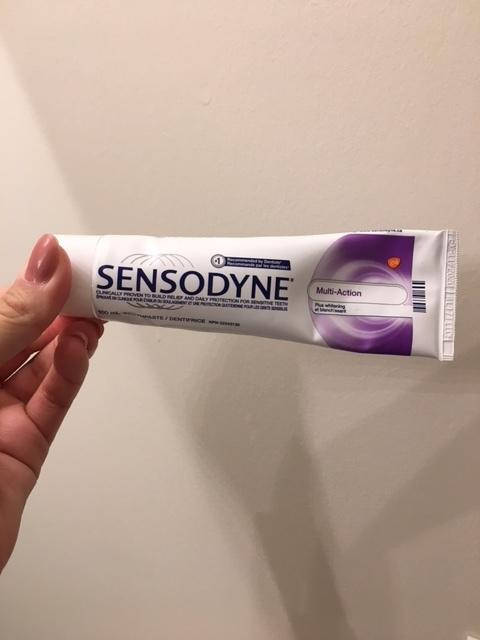toothpaste: (21, 210, 477, 369)
